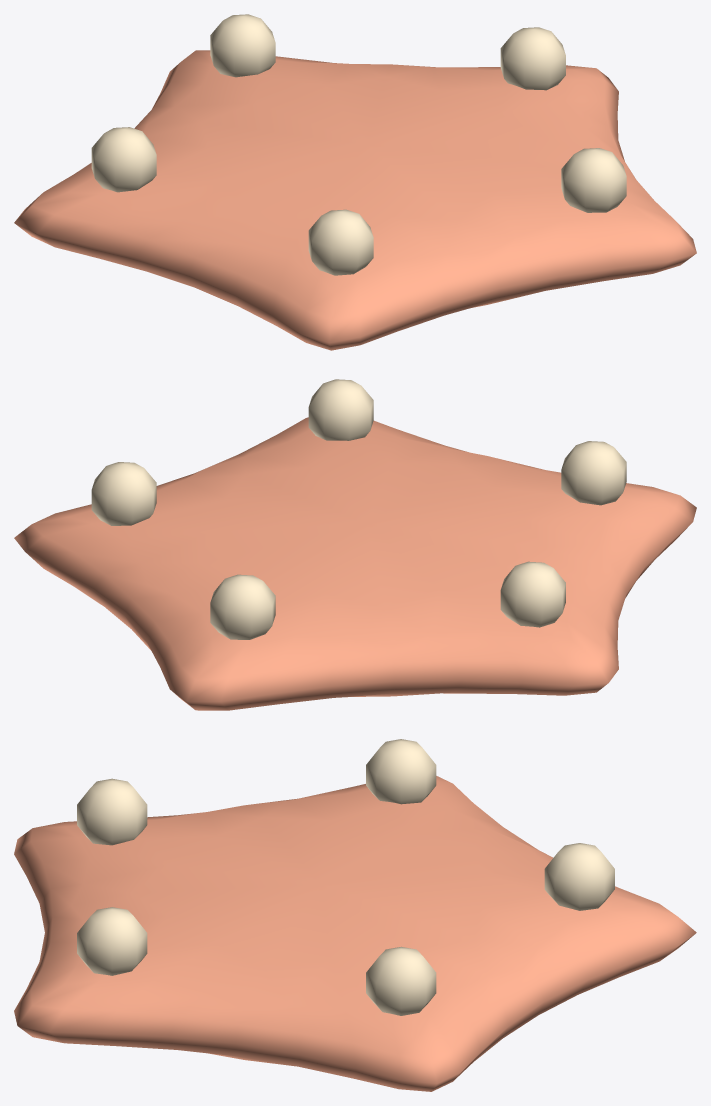
The model's file is starfish.glb.
3 views of the same model, one above another, from view 1: azimuth 30°, elevation 25°; view 2: azimuth 150°, elevation 25°; view 3: azimuth 270°, elevation 25° (orthographic). The views are drawn at different scales.
Visible parts, largest first — view 1: Star, Dot2, Dot3, Dot1, Dot4, Dot0; view 2: Star, Dot0, Dot1, Dot4, Dot2, Dot3; view 3: Star, Dot4, Dot3, Dot0, Dot2, Dot1.
Part boxes in pixels (x1,y1,x2,y2): Star: [14, 50, 696, 350]; Dot2: [308, 209, 373, 275]; Dot3: [561, 148, 626, 212]; Dot1: [91, 127, 156, 192]; Dot4: [500, 27, 565, 90]; Dot0: [210, 14, 275, 77]; Star: [14, 417, 696, 710]; Dot0: [210, 574, 275, 639]; Dot1: [500, 561, 565, 627]; Dot4: [91, 462, 156, 525]; Dot2: [561, 441, 626, 505]; Dot3: [308, 379, 373, 440]; Star: [14, 776, 696, 1091]; Dot4: [366, 946, 436, 1015]; Dot3: [77, 907, 147, 975]; Dot0: [544, 843, 614, 910]; Dot2: [77, 778, 147, 845]; Dot1: [366, 739, 436, 804].
Bounding box in the file's own units: 0.9676 × 0.2023 × 0.9249.
